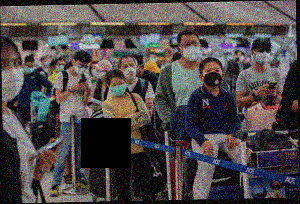with_mask: (2, 56, 26, 102), (182, 39, 202, 63), (203, 66, 224, 88), (255, 45, 272, 66), (109, 80, 127, 97), (121, 62, 138, 80), (73, 62, 90, 76), (93, 67, 107, 81), (24, 63, 36, 75), (54, 62, 67, 73), (148, 54, 158, 64), (44, 58, 50, 66)
